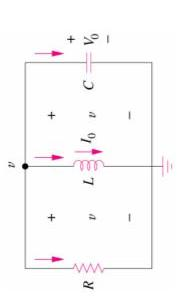Capacitor: (62, 45, 110, 78)
